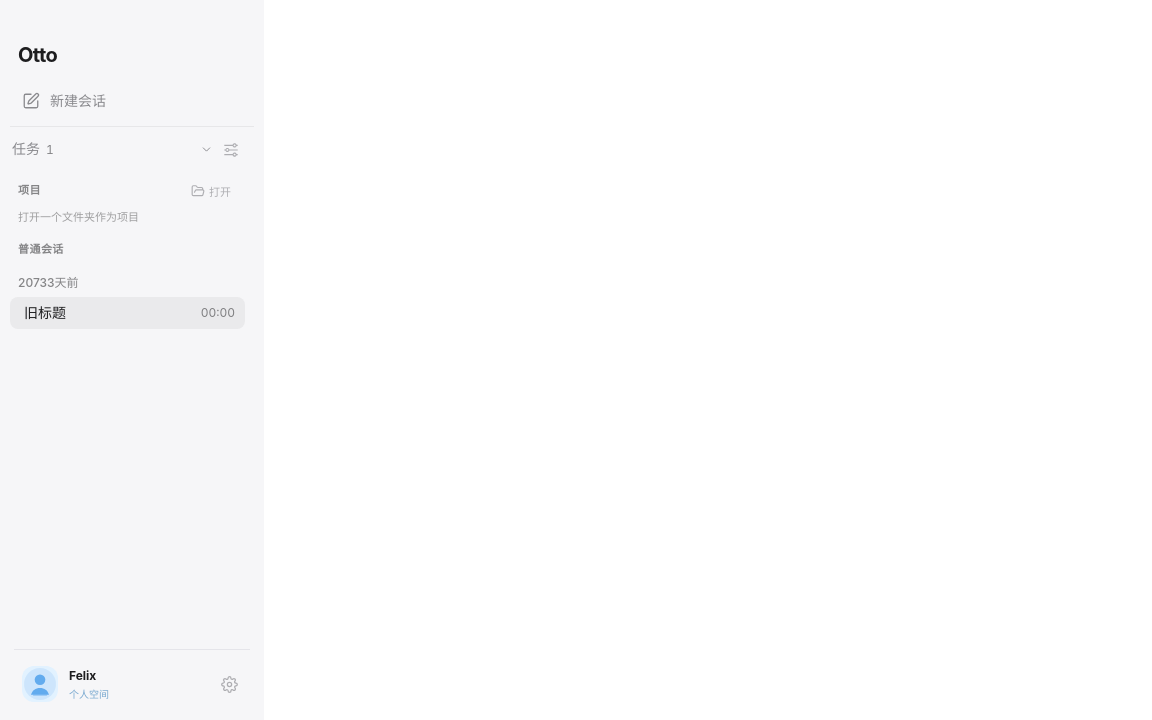
Test: Sidebar：布局（工具区已迁右侧面板） › 点击账户区打开账户菜单，点击外部或按 Escape 均会收起
Click the button with aria-label "Felix，个人空间" at (112, 684), box [18,662,206,706]
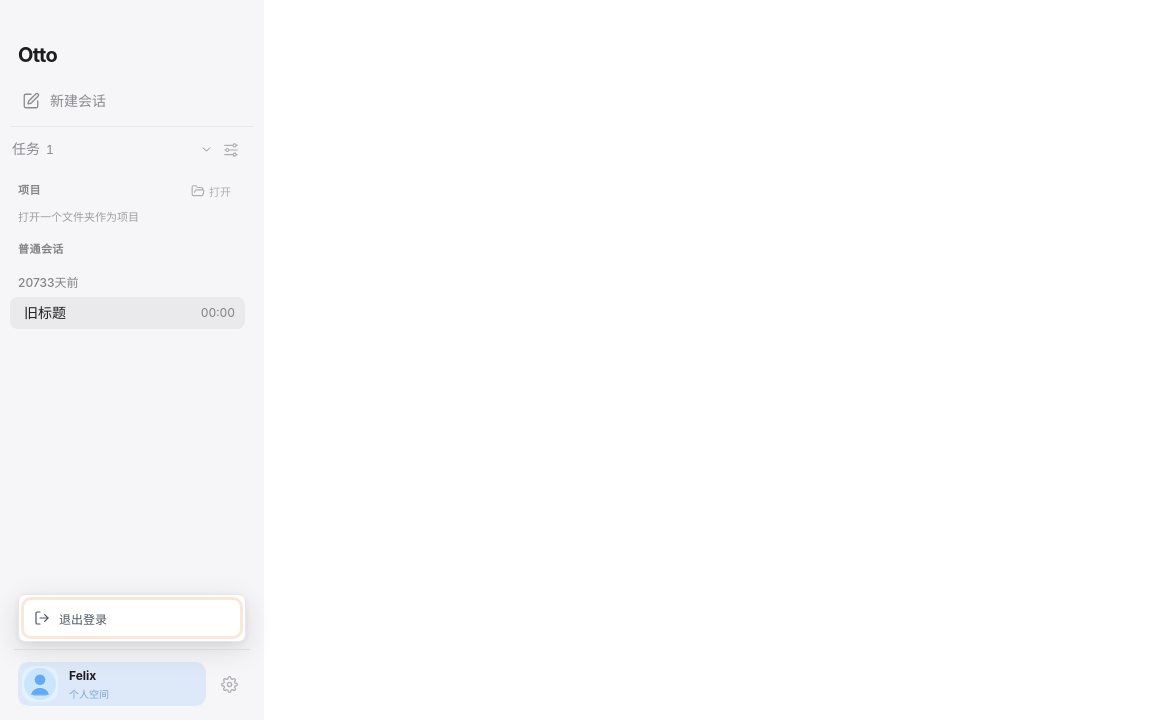
Check: the menu named "账户菜单" is shown, box [18,594,246,642]
Press the mouse on the element that starts with "Otto" at (576, 360), box [0,0,1151,719]
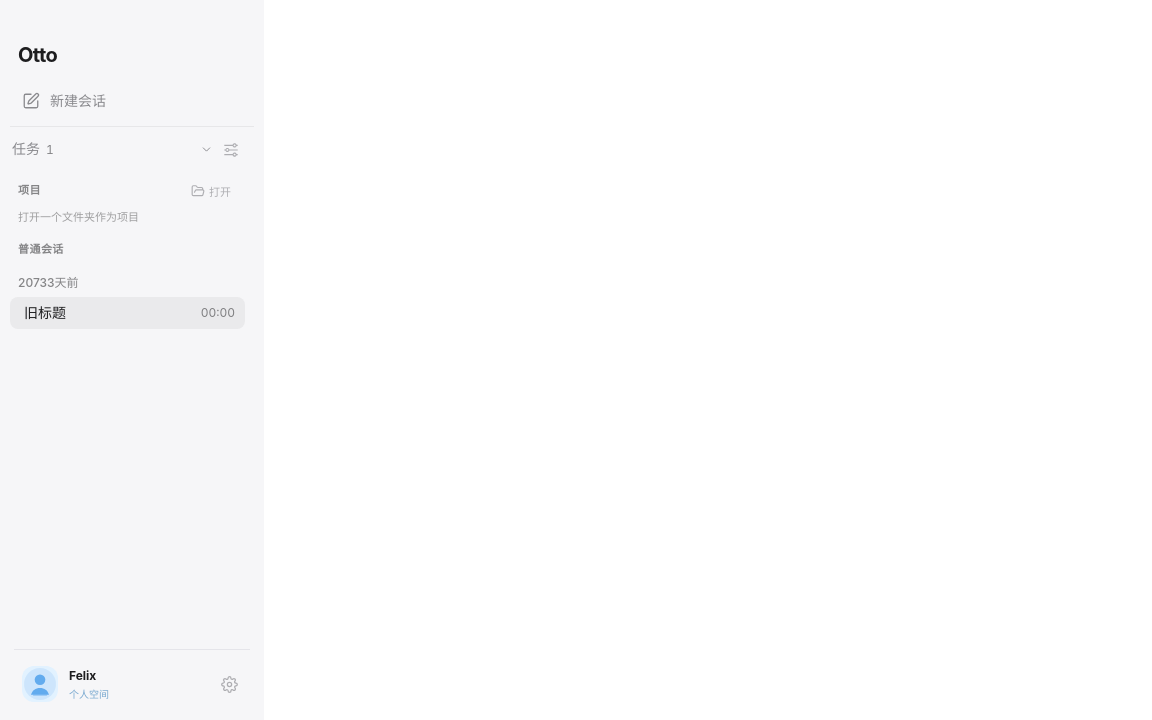
Check: the menu "账户菜单" is gone
Click the button with aria-label "Felix，个人空间" at (112, 684), box [18,662,206,706]
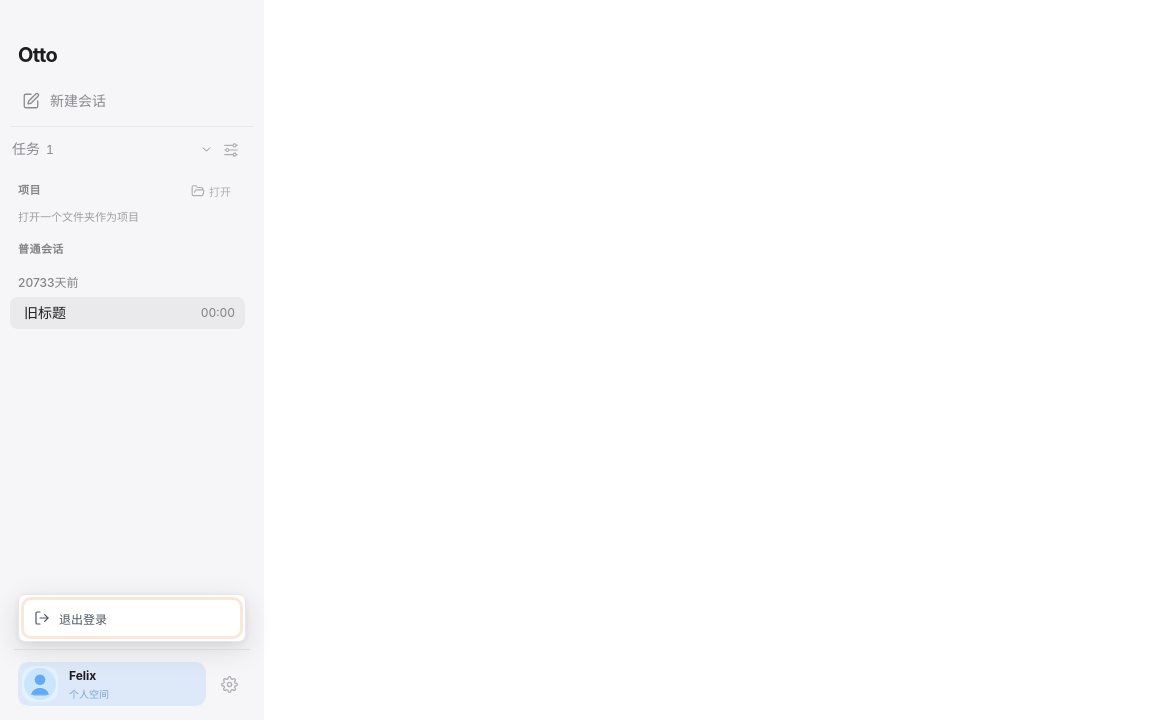
Press Escape
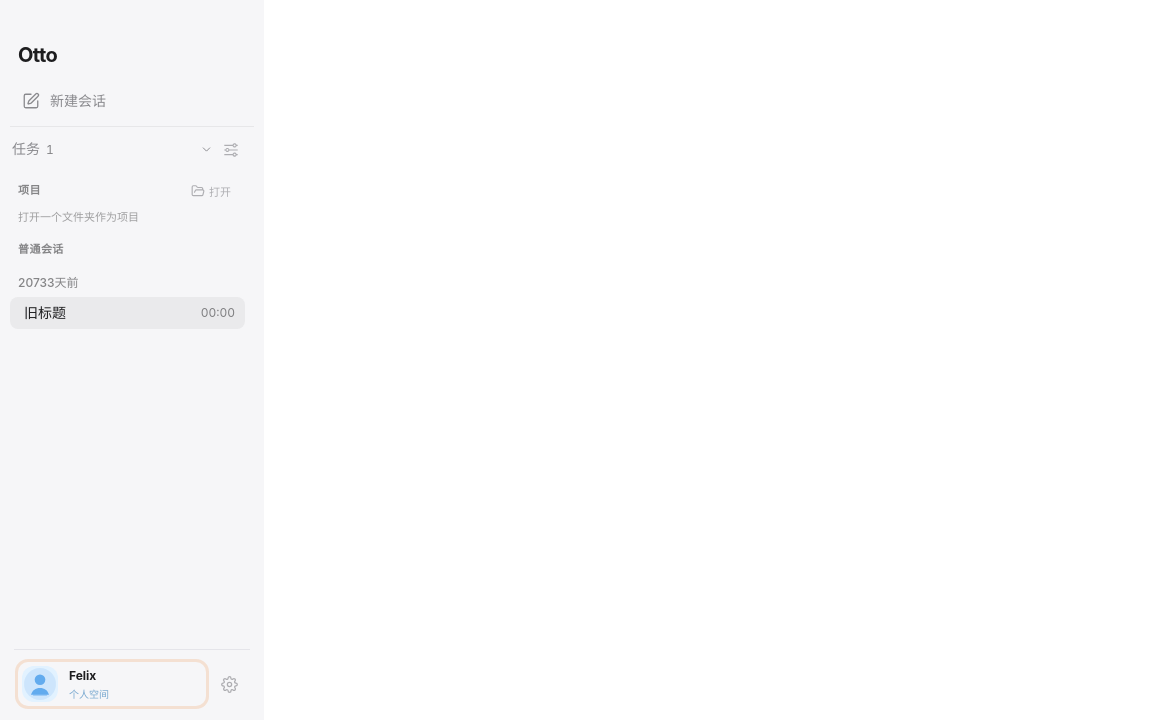
Check: the menu "账户菜单" is gone
